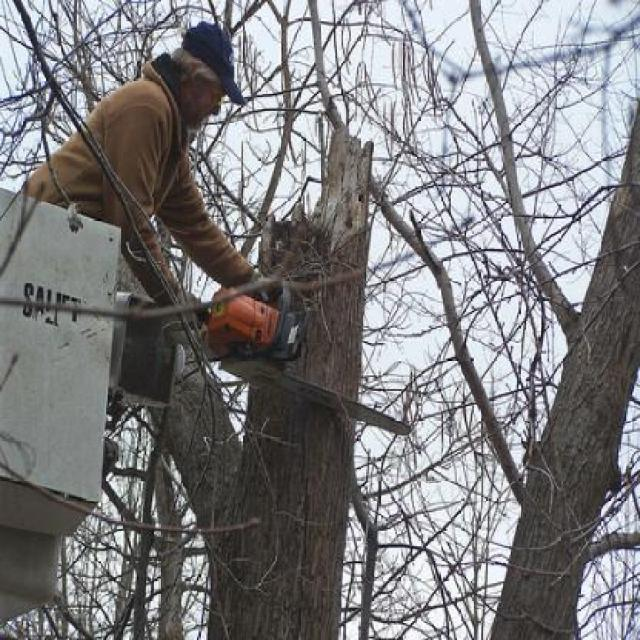Chainsaw: (195, 263, 403, 437)
